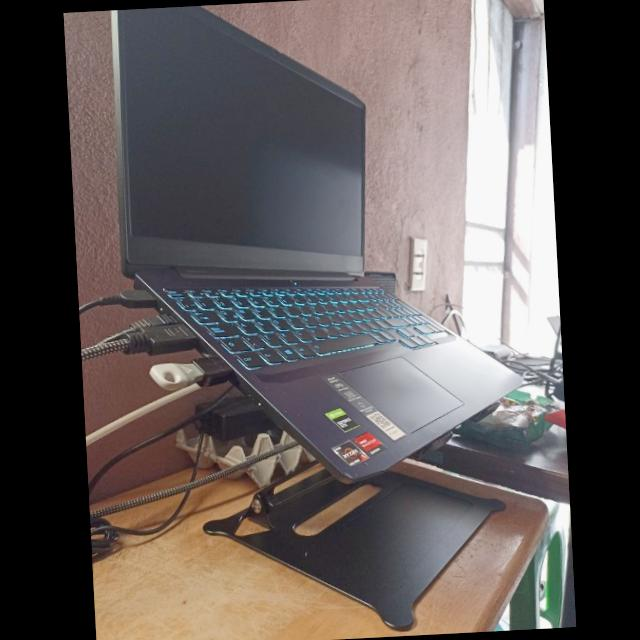laptop: (112, 6, 520, 480)
